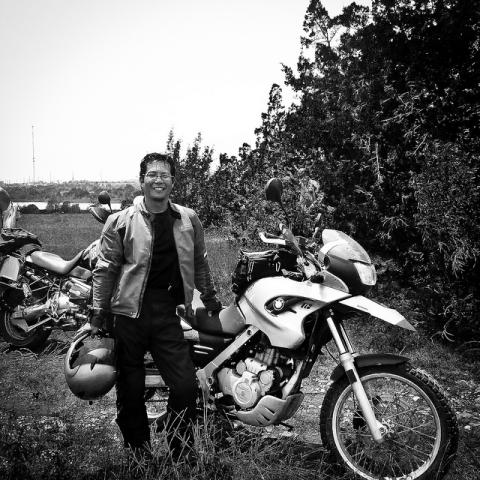motorcycle: (144, 176, 458, 480), (0, 191, 114, 351)
